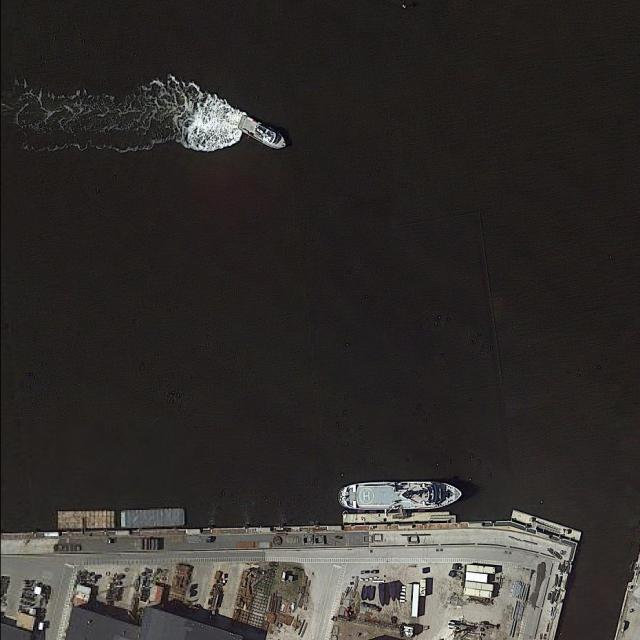Other Warship: (235, 113, 290, 153)
Yacht: (340, 482, 462, 509)
